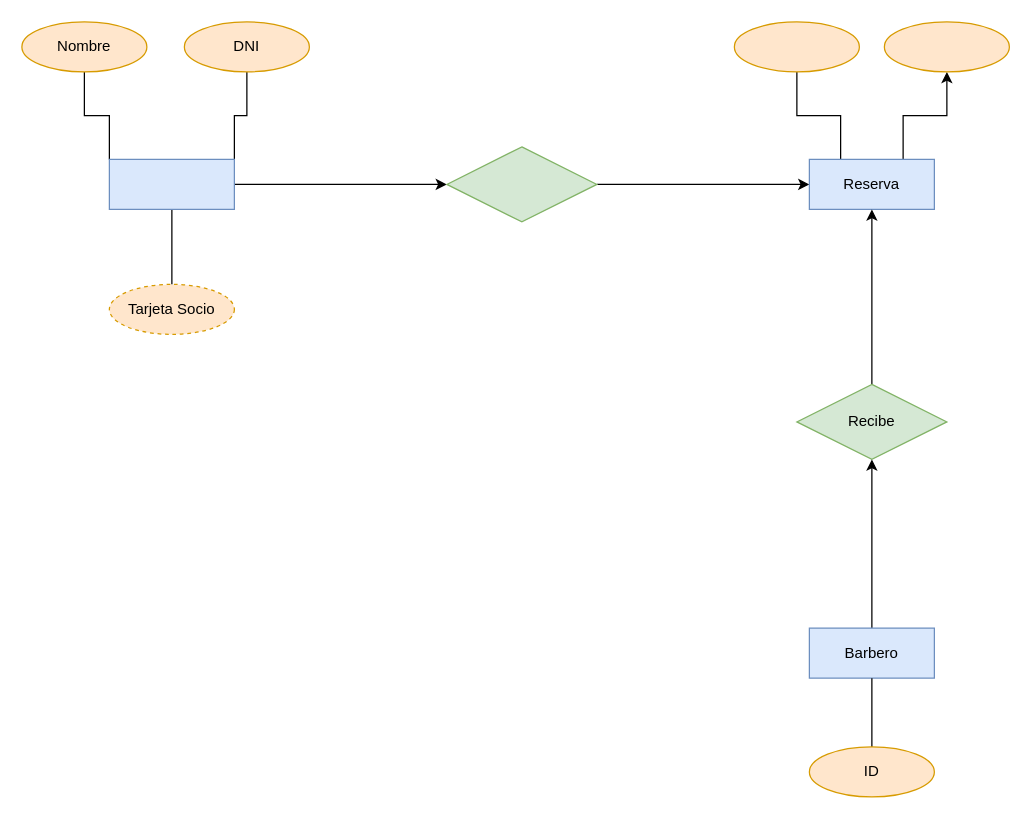
Some shapes in this 1031 by 819 pixel diagram are drawn without their labels. The shapes that lost their labels are listed below. From the top down, each one's box as (x1, y1, x2, y2) in pixels, then its label:
(733, 21, 859, 72): Fecha
(883, 21, 1009, 72): Servicio
(108, 158, 234, 209): Cliente
(446, 146, 597, 222): Solicita
